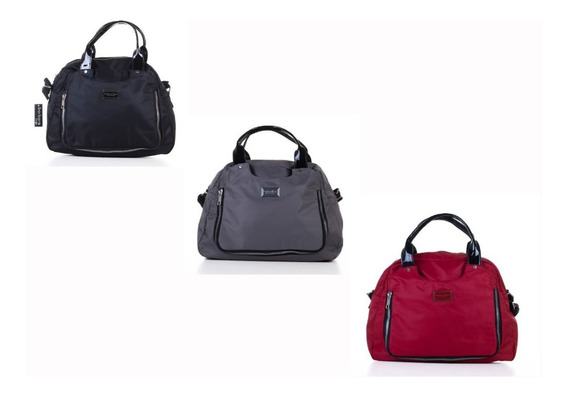cartera: (365, 212, 521, 366), (195, 124, 344, 264), (34, 19, 177, 157)
